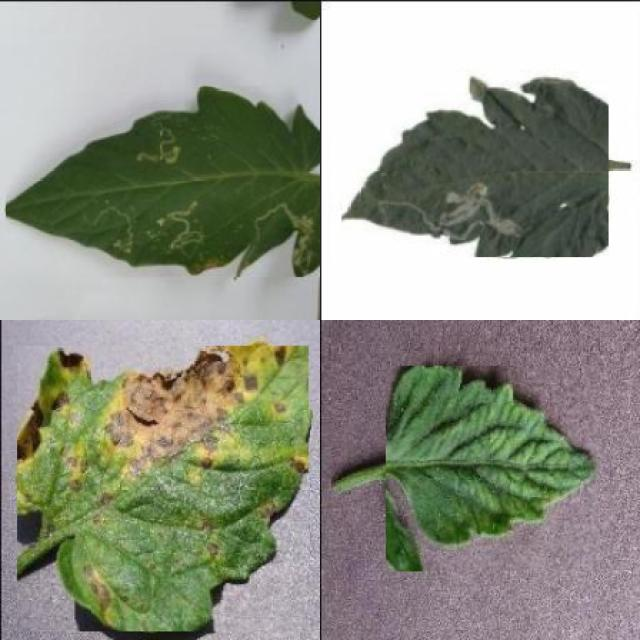Leaf Miner: (6, 86, 320, 277), (342, 72, 608, 258)
Mosaic Virus: (386, 365, 600, 572)
Septoria: (17, 345, 309, 632)
